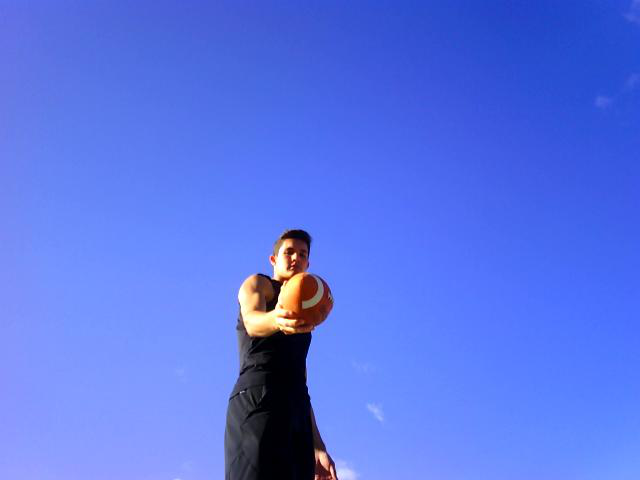footbal: (280, 273, 335, 329)
